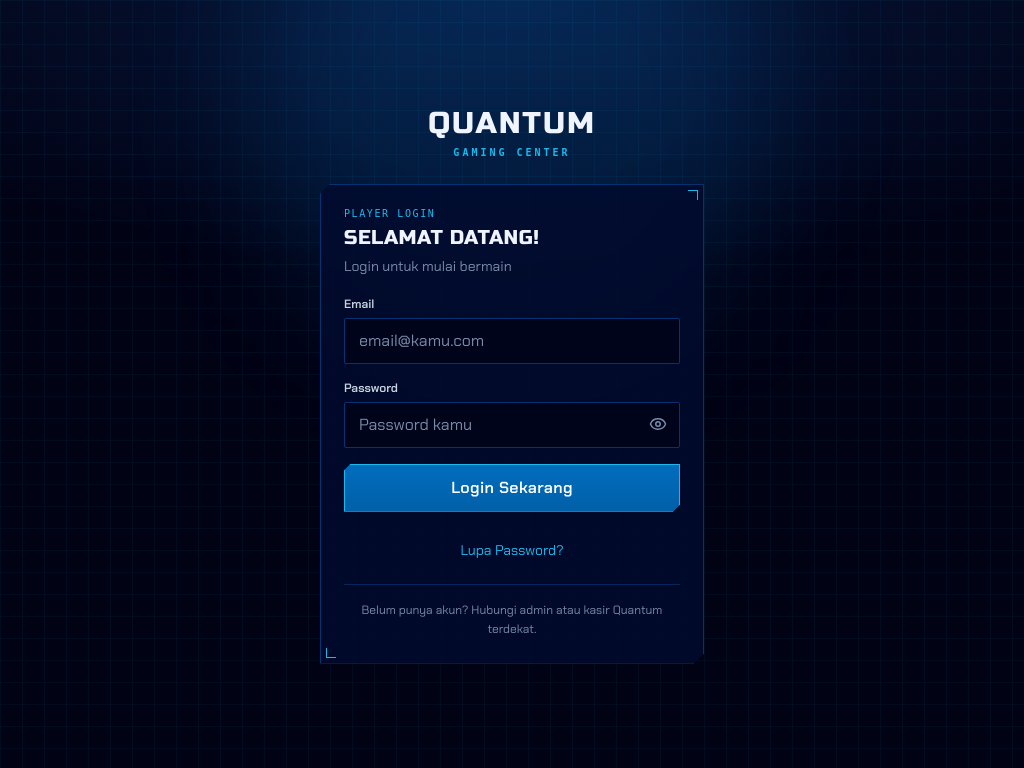
it: LoginView › shows a fallback error message when the server does not return one
isi kredensial valid supaya validasi client lolos dan request benar-benar terkirim
Type "a@test.com" into the field labelled "Email".
click(512, 340); type("a@test.com")  # box [344,318,680,364]
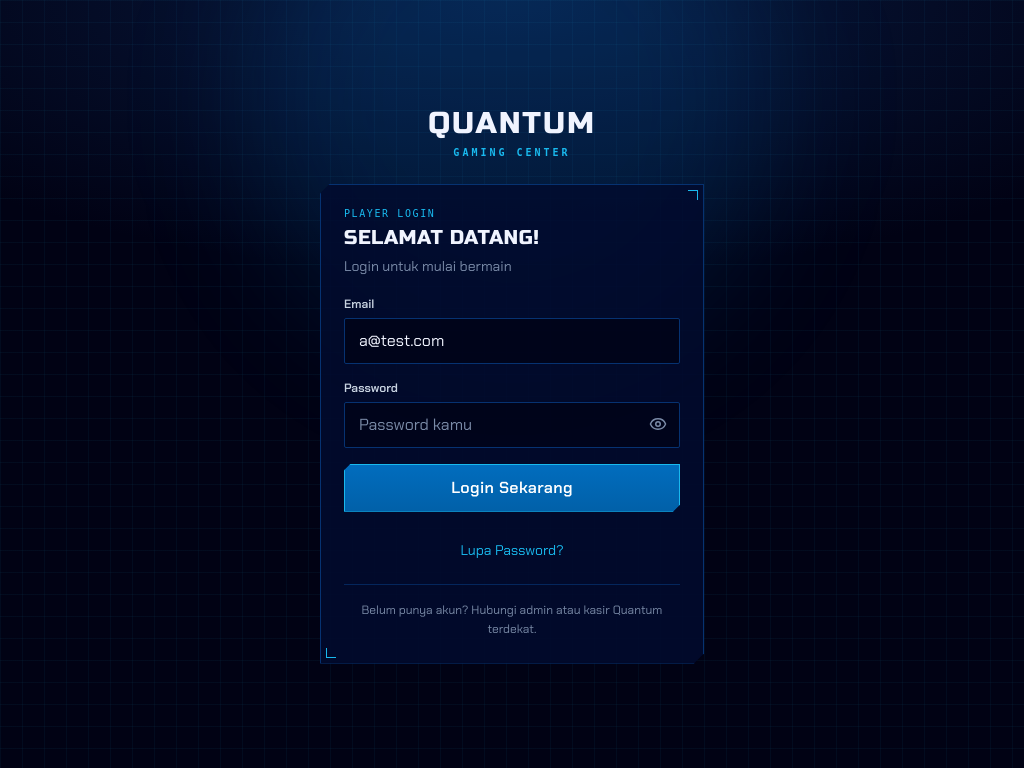
Type "pass" into the password field labelled "Password".
click(512, 424); type("pass")  # box [344,402,680,448]
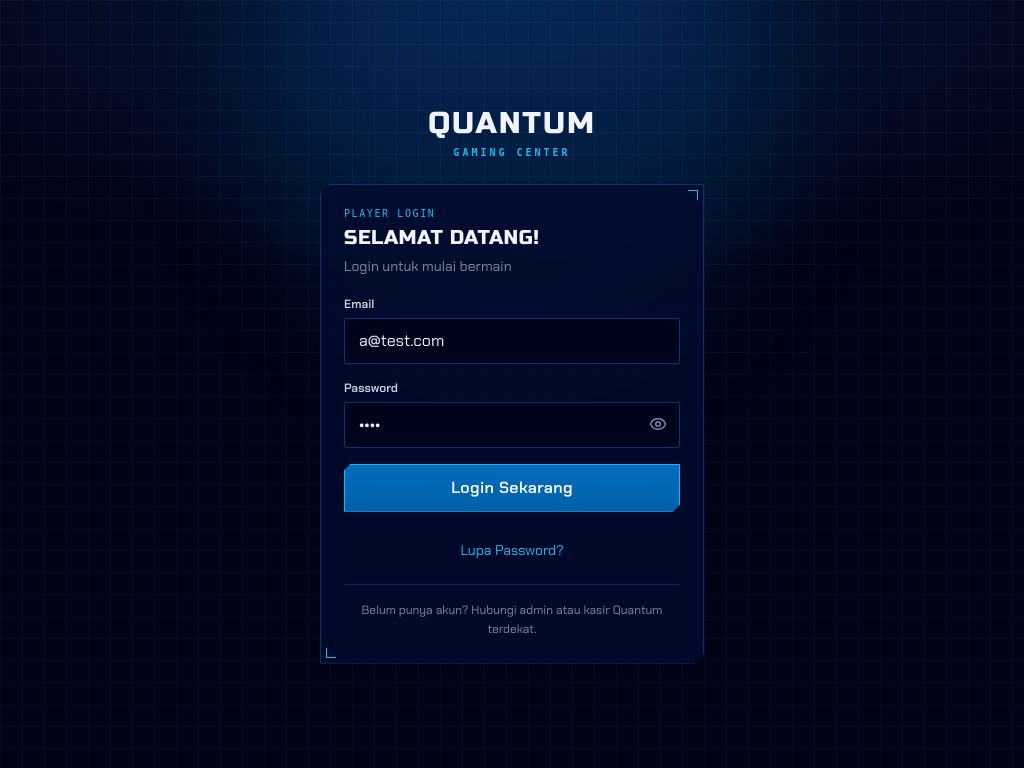
Submit the form, box [344,296,680,512]
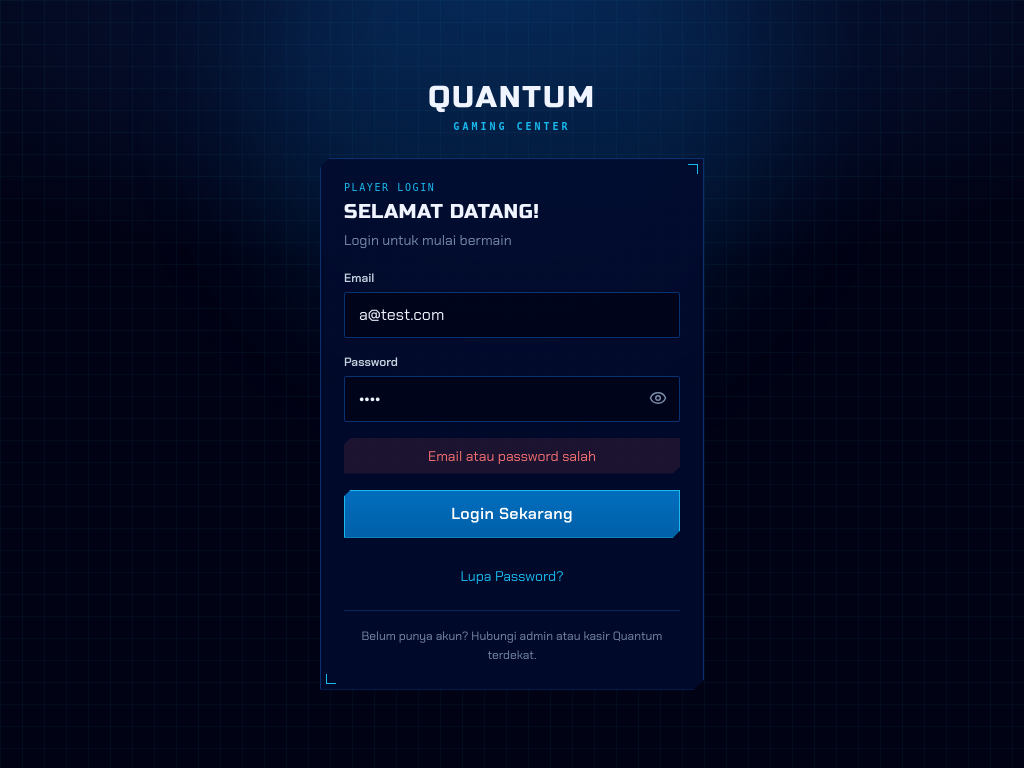
Expected: the text "Email atau password salah" is shown, [344,438,680,474]
